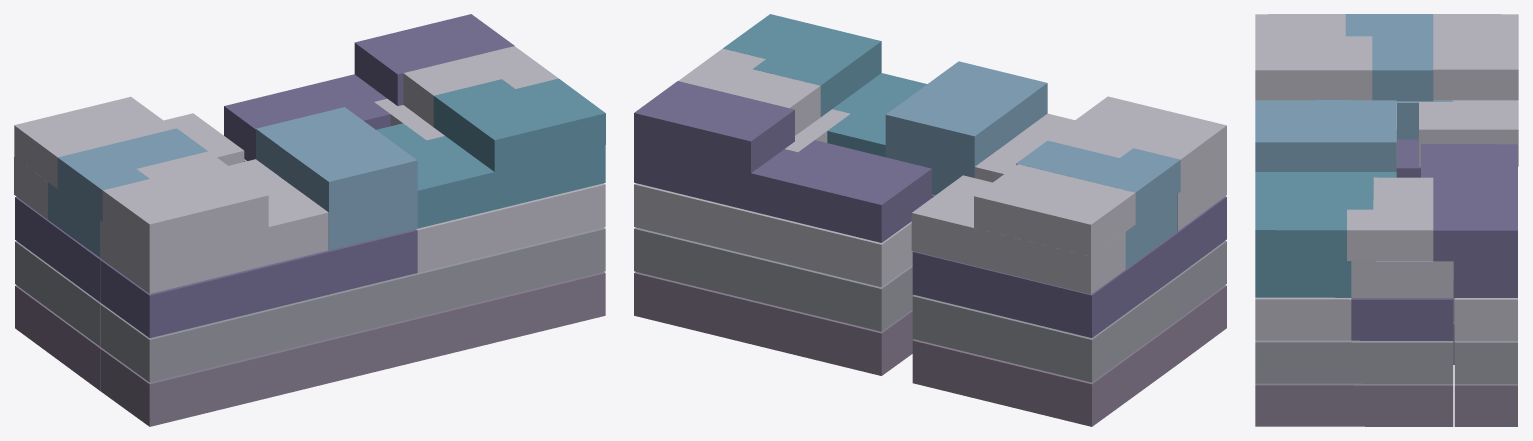
Rendered from a-hitbox.glb.
The picture shows the model from 3 angles, left to right: view 1: azimuth 30°, elevation 25°; view 2: azimuth 150°, elevation 25°; view 3: azimuth 270°, elevation 25°; orthographic projection. The views are drawn at different scales.
Parts seen in each view (by area): view 1: A-A405, A-A403, A-A404, A-A401, A-A105, A-A205, A-A305, A-A407, A-A103, A-A203, A-A303, A-A406 (+7 smaller); view 2: A-A401, A-A407, A-A404, A-A201, A-A101, A-A301, A-A403, A-A405, A-A106, A-A206, A-A306, A-A406 (+4 smaller); view 3: A-A403, A-A401, A-A407, A-A402, A-A404, A-A405, A-A406, A-A102, A-A202, A-A302, A-A203, A-A103 (+5 smaller).
Boxes of the visible parts, <box> form: A-A405: <box>100,151,328,293</box>; A-A403: <box>376,78,605,228</box>; A-A404: <box>256,107,417,250</box>; A-A401: <box>224,14,514,160</box>; A-A105: <box>100,339,328,426</box>; A-A205: <box>100,295,328,382</box>; A-A305: <box>100,251,328,338</box>; A-A407: <box>14,96,244,219</box>; A-A103: <box>416,272,605,361</box>; A-A203: <box>416,227,605,316</box>; A-A303: <box>416,183,605,272</box>; A-A406: <box>48,128,207,257</box>; A-A401: <box>634,81,931,242</box>; A-A407: <box>911,164,1135,294</box>; A-A404: <box>885,61,1047,195</box>; A-A201: <box>634,227,913,331</box>; A-A101: <box>634,272,913,375</box>; A-A301: <box>634,183,912,287</box>; A-A403: <box>723,14,926,157</box>; A-A405: <box>974,96,1226,231</box>; A-A106: <box>912,321,1177,426</box>; A-A206: <box>912,277,1177,382</box>; A-A306: <box>912,232,1177,337</box>; A-A406: <box>1016,140,1180,268</box>; A-A403: <box>1255,172,1396,297</box>; A-A401: <box>1421,144,1517,297</box>; A-A407: <box>1419,14,1518,166</box>; A-A402: <box>1347,177,1453,297</box>; A-A404: <box>1255,100,1396,171</box>; A-A405: <box>1255,14,1396,166</box>; A-A406: <box>1345,14,1451,139</box>; A-A102: <box>1351,383,1453,426</box>; A-A202: <box>1351,340,1453,383</box>; A-A302: <box>1351,298,1453,340</box>; A-A203: <box>1255,340,1351,383</box>; A-A103: <box>1255,383,1351,426</box>.
Size of the model in its own units: 36.53 by 15.46 by 18.77.
